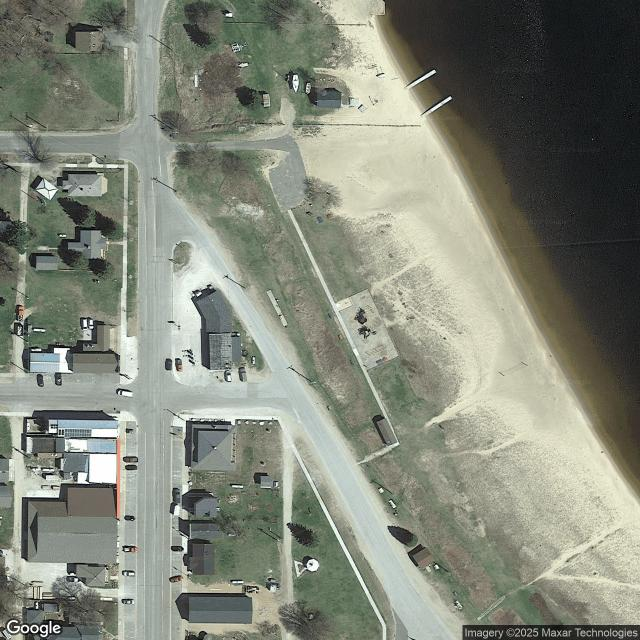Propane: (32, 328, 47, 333), (42, 468, 55, 472), (231, 580, 244, 584), (231, 485, 244, 489), (67, 596, 76, 600), (59, 234, 67, 238), (252, 357, 256, 365), (31, 468, 41, 471), (35, 602, 38, 610)
